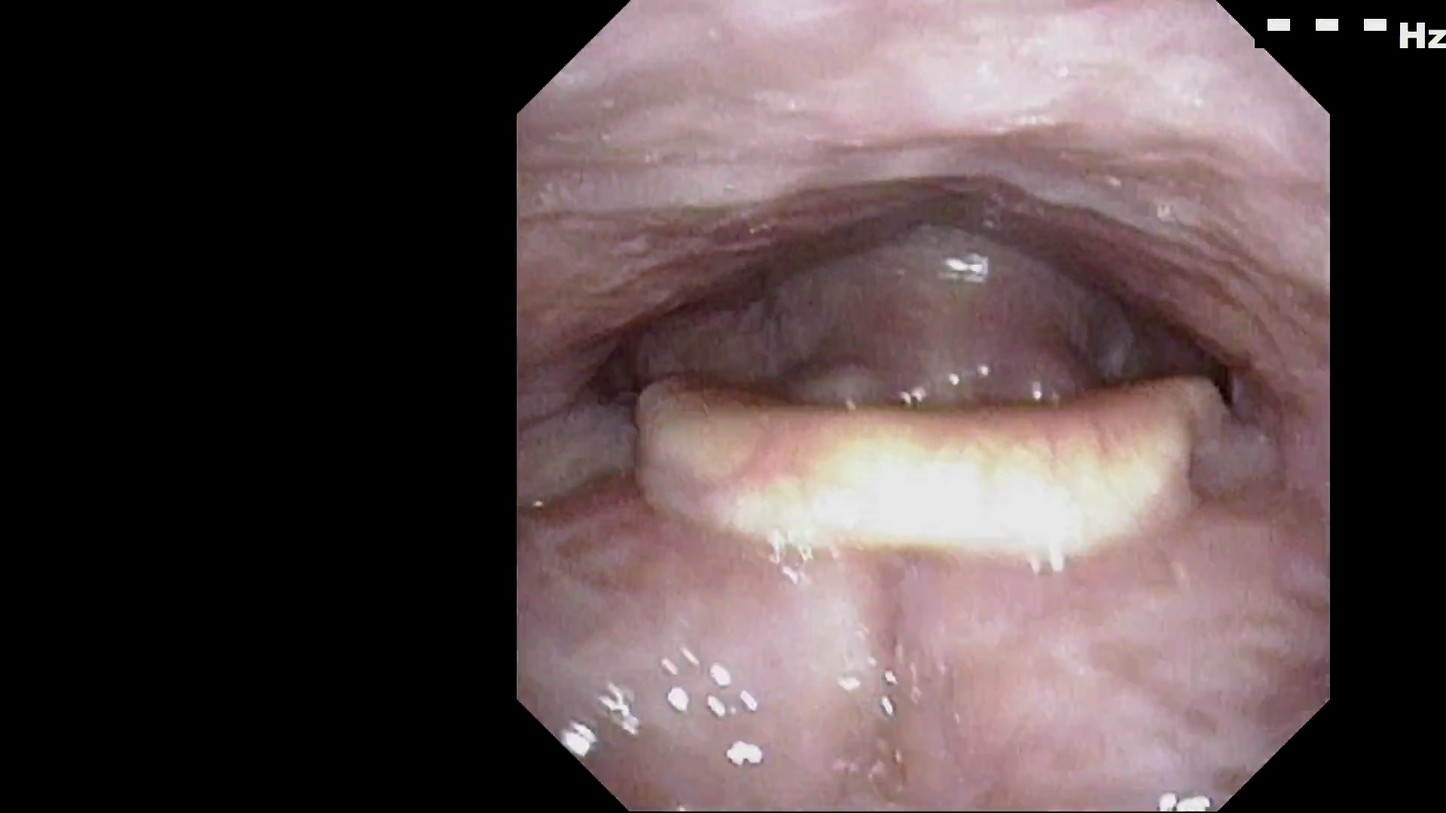epiglottis: (631, 356, 1185, 589)
